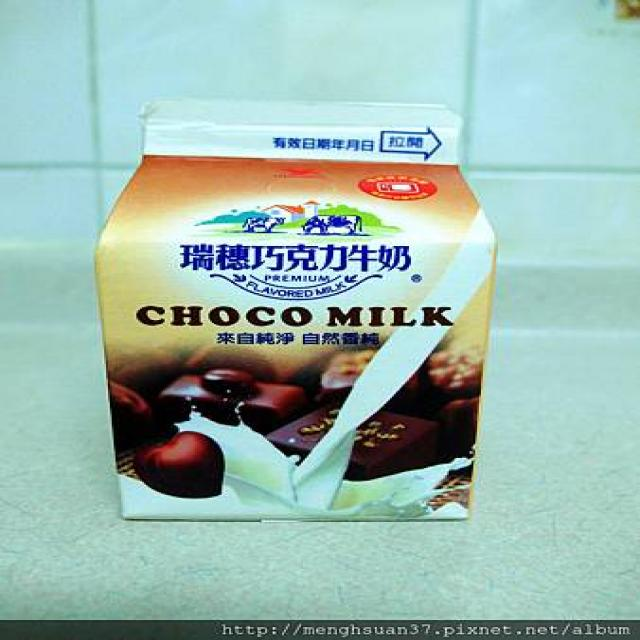non_white_jug: (75, 94, 509, 544)
